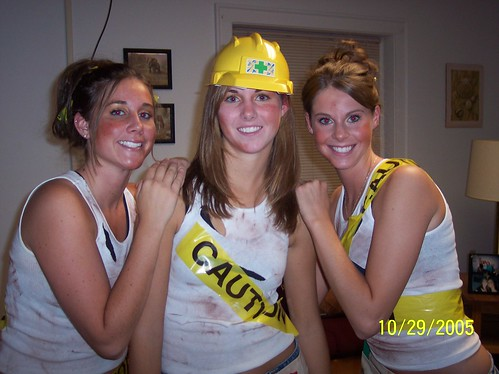person hardhat: (154, 32, 327, 374)
